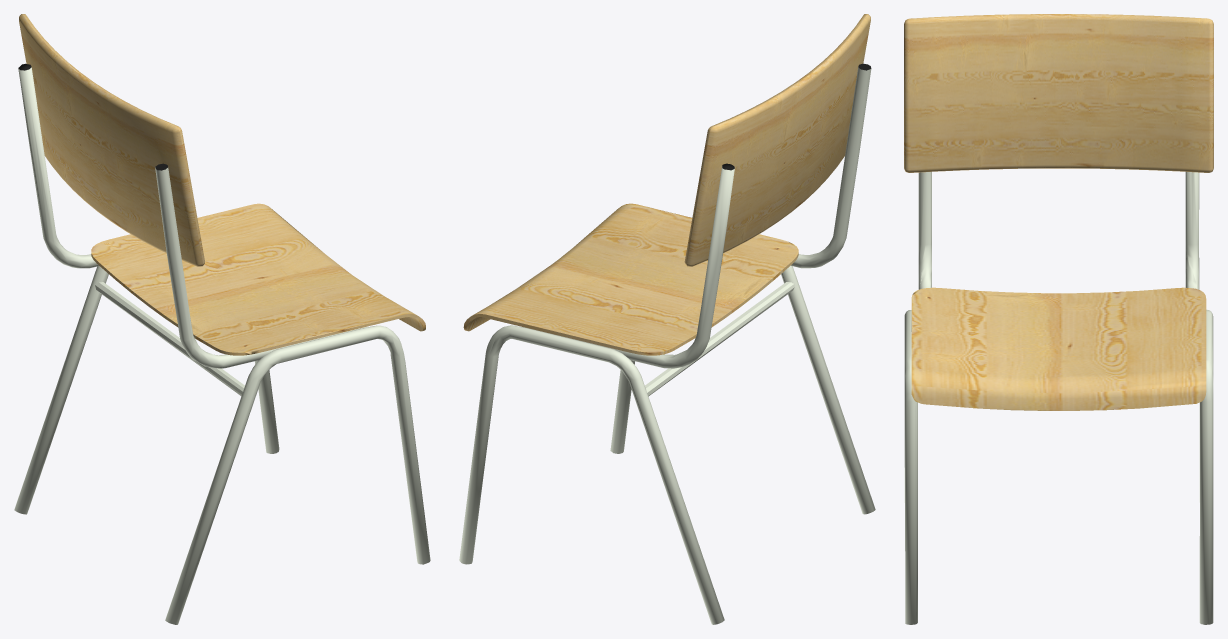
File: Chair.FBX
3 views of the same model, side by side, from view 1: azimuth 30°, elevation 25°; view 2: azimuth 150°, elevation 25°; view 3: azimuth 270°, elevation 25° (orthographic). The views are drawn at different scales.
Visible parts, largest first — view 1: Chair; view 2: Chair; view 3: Chair.
Part boxes in pixels (bbox=[...]): Chair: bbox=[14, 14, 430, 624]; Chair: bbox=[459, 14, 875, 624]; Chair: bbox=[904, 14, 1213, 624].
Size of the model in its own units: 18.09 by 31.41 by 18.1.
Materials: 2 (2 with a texture image).
